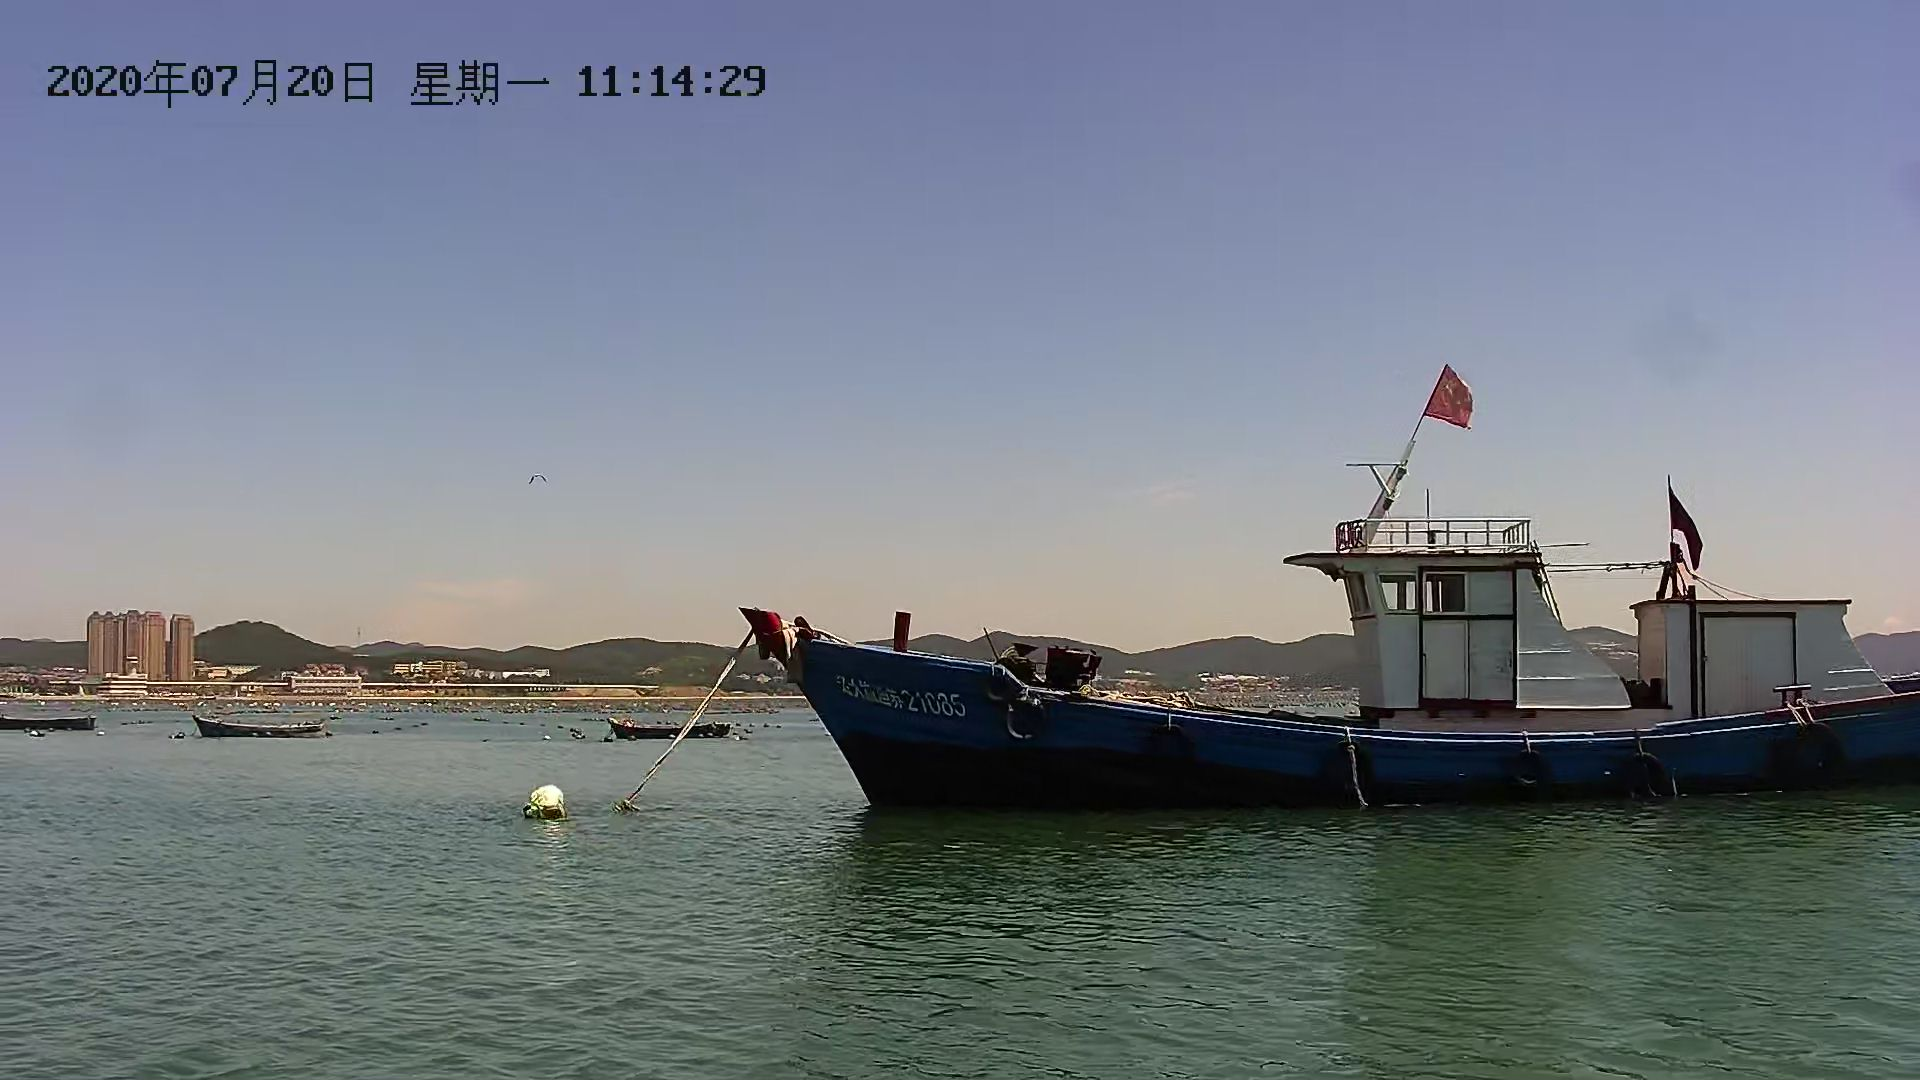ball: (524, 791, 568, 819)
boat: (748, 525, 1920, 818), (175, 715, 338, 735), (1, 708, 104, 732), (604, 724, 740, 741)
